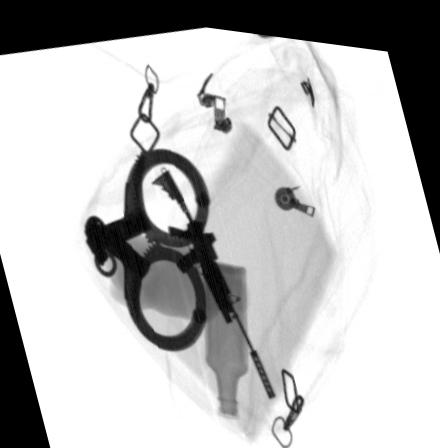Gun: (149, 160, 280, 395)
HandCuffs: (79, 141, 206, 348)
